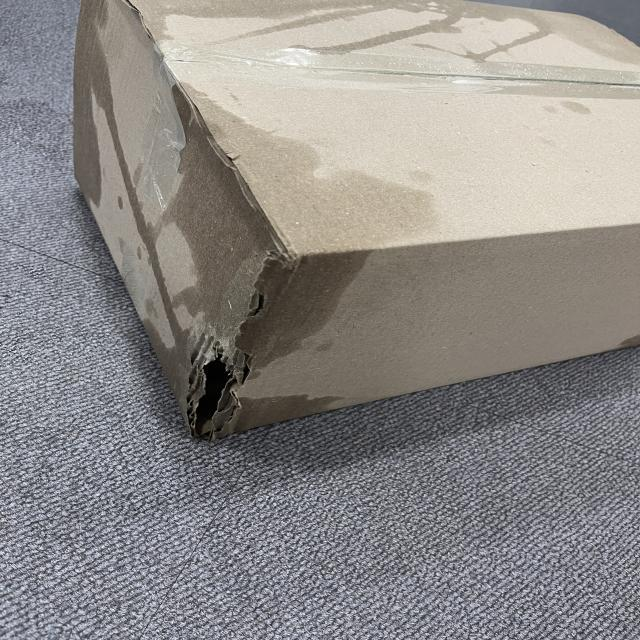hole: (177, 342, 245, 440)
wet: (123, 99, 429, 439)
